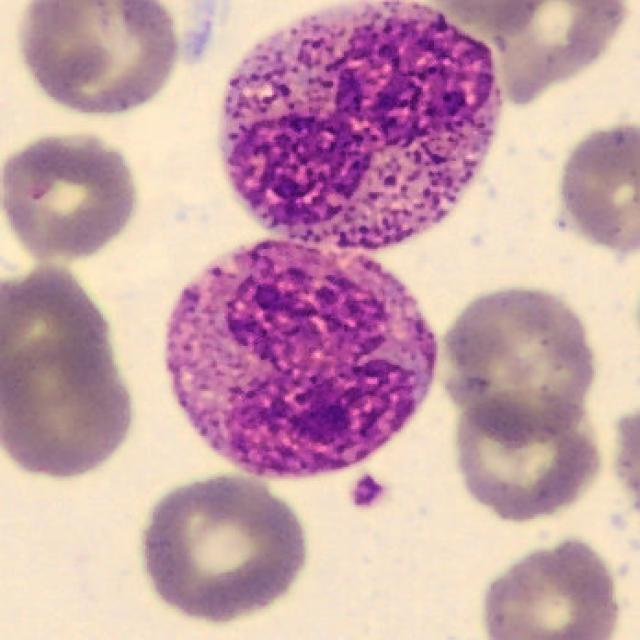Metamielocito: (223, 0, 504, 253), (166, 242, 438, 481)
